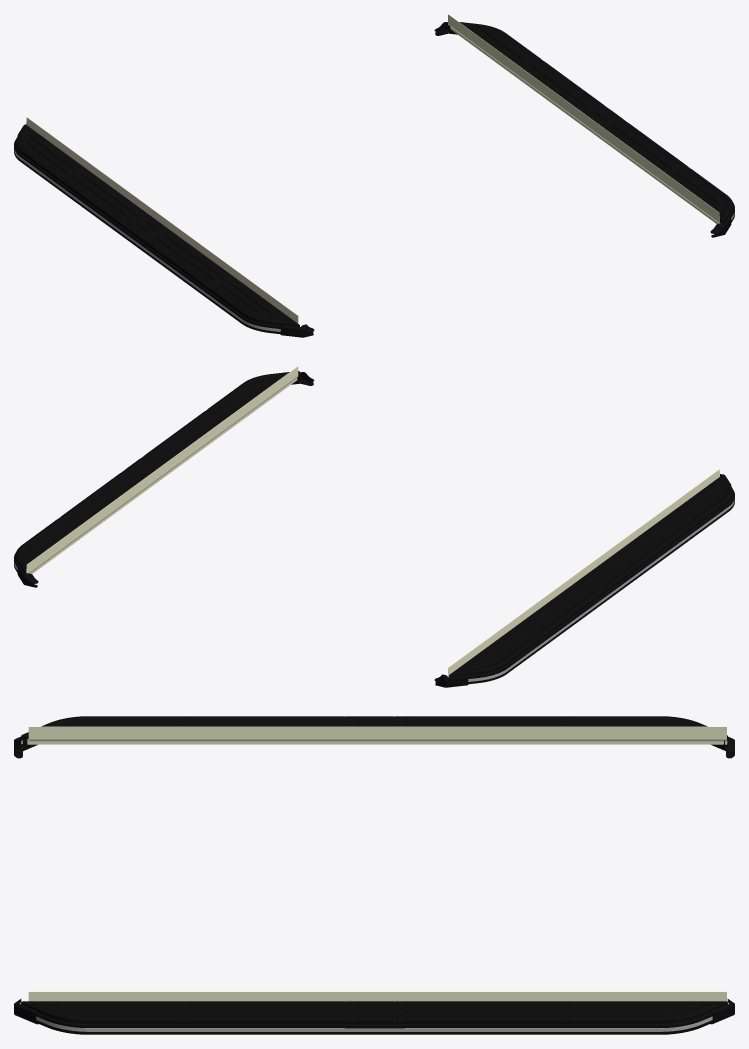
File: innova-footstep.glb
3 renders of one model, top to bottom at view 1: azimuth 30°, elevation 25°; view 2: azimuth 150°, elevation 25°; view 3: azimuth 270°, elevation 25°, orthographic. The views are drawn at different scales.
Visible parts, largest first — view 1: CRYSTA FOOT STEP.002, CRYSTA FOOT STEP.001, CRYSTA FOOT STEP.021, CRYSTA FOOT STEP.012, CRYSTA FOOT STEP.013, CRYSTA FOOT STEP.010, CRYSTA FOOT STEP.008, CRYSTA FOOT STEP.005, CRYSTA FOOT STEP.003; view 2: CRYSTA FOOT STEP.001, CRYSTA FOOT STEP.021, CRYSTA FOOT STEP.002, CRYSTA FOOT STEP.012, CRYSTA FOOT STEP.013, CRYSTA FOOT STEP.010, CRYSTA FOOT STEP.008, CRYSTA FOOT STEP.005, CRYSTA FOOT STEP.003; view 3: CRYSTA FOOT STEP.010, CRYSTA FOOT STEP.021, CRYSTA FOOT STEP.012, CRYSTA FOOT STEP.013, CRYSTA FOOT STEP.019, CRYSTA FOOT STEP.001, CRYSTA FOOT STEP.002, CRYSTA FOOT STEP.016, CRYSTA FOOT STEP.014, CRYSTA FOOT STEP.003.
Boxes of the visible parts, left/top/right/bottom form: CRYSTA FOOT STEP.002: left=144, top=233, right=299, bottom=326; CRYSTA FOOT STEP.001: left=15, top=124, right=154, bottom=228; CRYSTA FOOT STEP.021: left=448, top=14, right=720, bottom=223; CRYSTA FOOT STEP.012: left=459, top=22, right=608, bottom=113; CRYSTA FOOT STEP.013: left=604, top=122, right=733, bottom=223; CRYSTA FOOT STEP.010: left=26, top=117, right=298, bottom=323; CRYSTA FOOT STEP.008: left=14, top=139, right=280, bottom=334; CRYSTA FOOT STEP.005: left=14, top=150, right=280, bottom=331; CRYSTA FOOT STEP.003: left=124, top=219, right=173, bottom=242; CRYSTA FOOT STEP.001: left=449, top=580, right=608, bottom=677; CRYSTA FOOT STEP.021: left=26, top=366, right=298, bottom=573; CRYSTA FOOT STEP.002: left=598, top=474, right=733, bottom=575; CRYSTA FOOT STEP.012: left=15, top=469, right=148, bottom=573; CRYSTA FOOT STEP.013: left=144, top=371, right=300, bottom=461; CRYSTA FOOT STEP.010: left=448, top=469, right=719, bottom=676; CRYSTA FOOT STEP.008: left=468, top=490, right=734, bottom=684; CRYSTA FOOT STEP.005: left=468, top=500, right=734, bottom=681; CRYSTA FOOT STEP.003: left=579, top=566, right=627, bottom=589; CRYSTA FOOT STEP.010: left=28, top=726, right=726, bottom=744; CRYSTA FOOT STEP.021: left=28, top=991, right=726, bottom=1001; CRYSTA FOOT STEP.012: left=394, top=1001, right=727, bottom=1023; CRYSTA FOOT STEP.013: left=21, top=1001, right=345, bottom=1023; CRYSTA FOOT STEP.019: left=36, top=1012, right=712, bottom=1034; CRYSTA FOOT STEP.001: left=394, top=716, right=727, bottom=738; CRYSTA FOOT STEP.002: left=21, top=716, right=345, bottom=738; CRYSTA FOOT STEP.016: left=36, top=1016, right=712, bottom=1031; CRYSTA FOOT STEP.014: left=345, top=1001, right=394, bottom=1023; CRYSTA FOOT STEP.003: left=345, top=716, right=394, bottom=726.
Size of the model in its own units: 19.73 by 0.7364 by 19.64.
